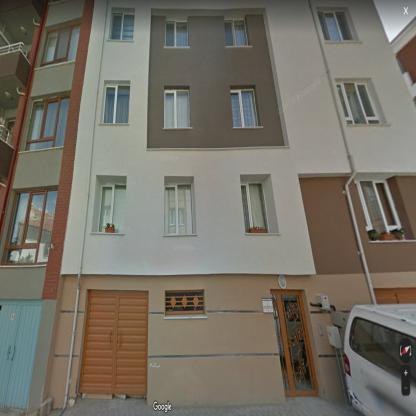door: (78, 291, 148, 394), (270, 290, 319, 396)
window: (2, 189, 56, 264), (24, 96, 69, 151), (355, 180, 401, 233), (337, 81, 380, 124), (41, 22, 80, 66), (97, 182, 126, 234), (165, 183, 194, 234), (240, 182, 268, 232), (102, 84, 129, 124), (318, 10, 354, 40), (231, 89, 258, 127), (165, 89, 190, 127), (165, 292, 204, 314), (110, 12, 134, 40), (225, 19, 248, 46), (164, 21, 188, 46)
